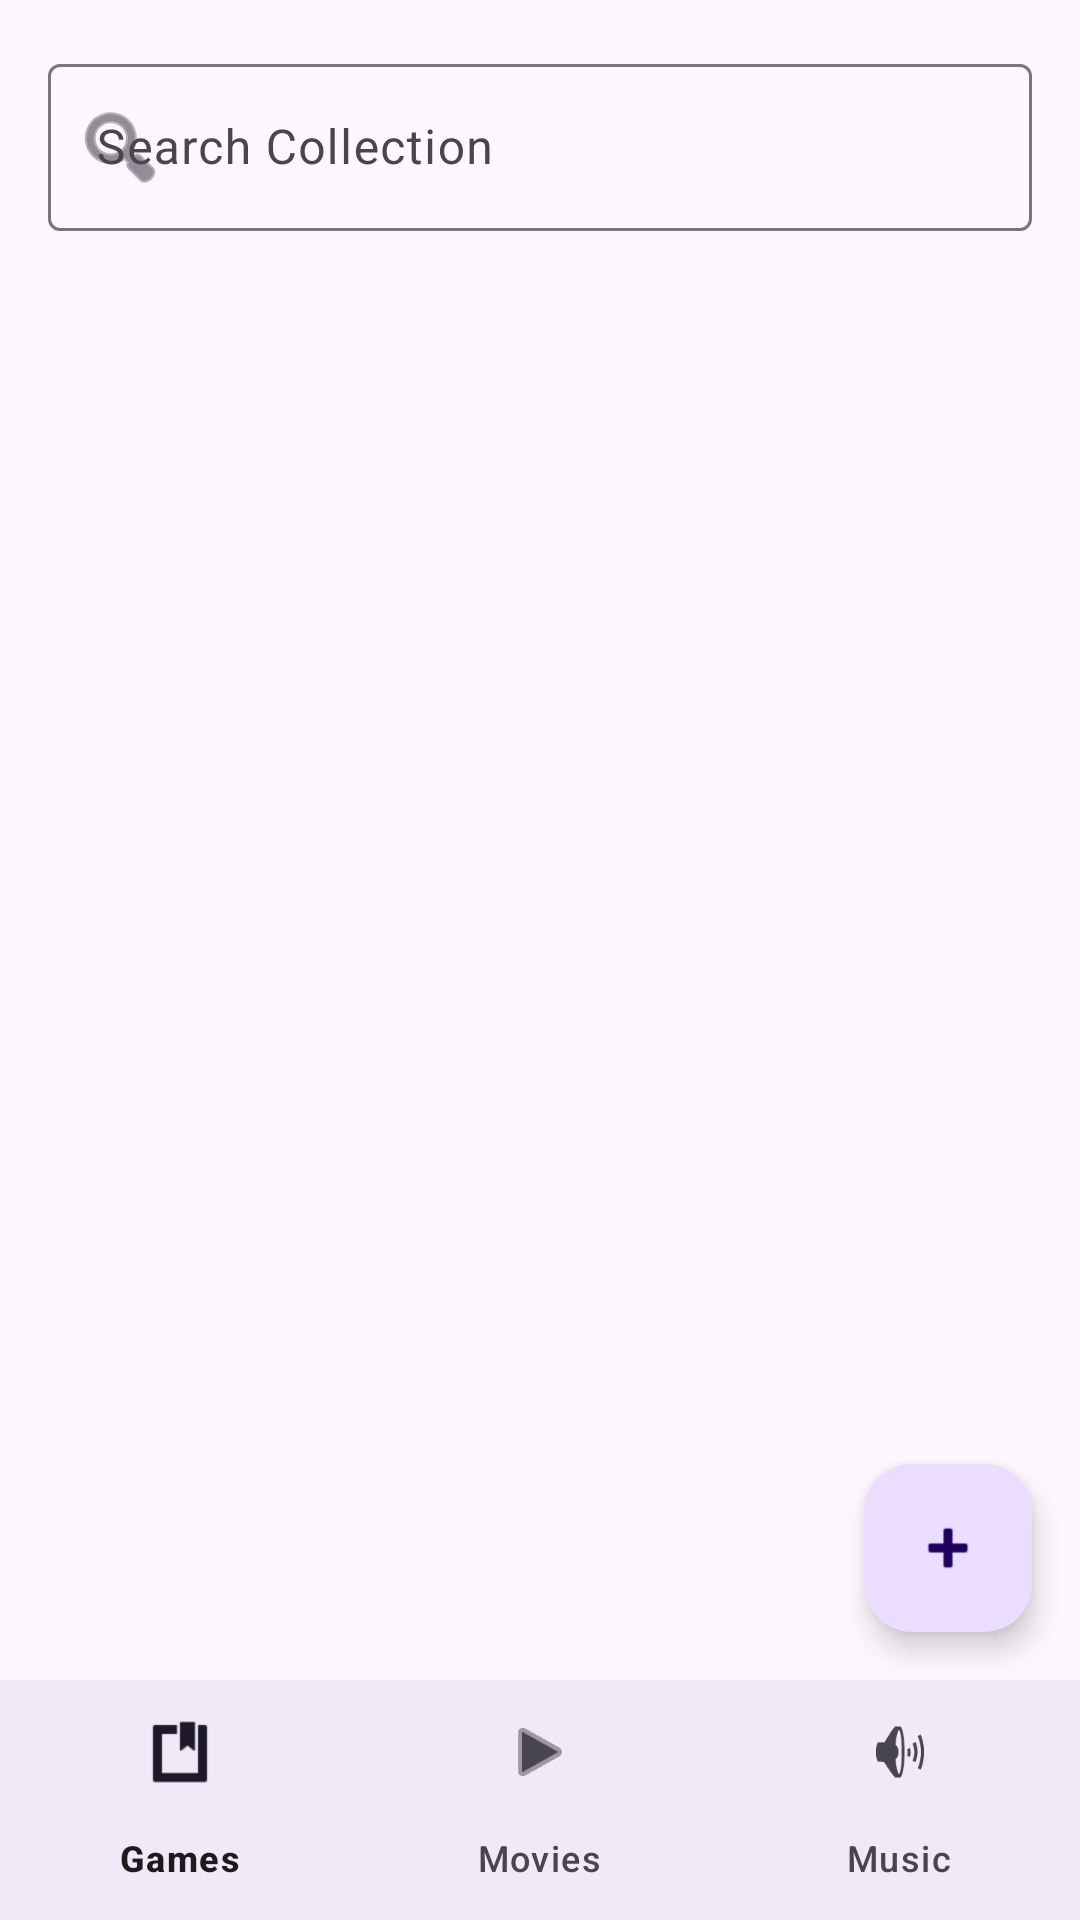

Icons on this 1080*1920 Android screen, each with the point to tap as point (x, y):
add: point (948, 1548)
